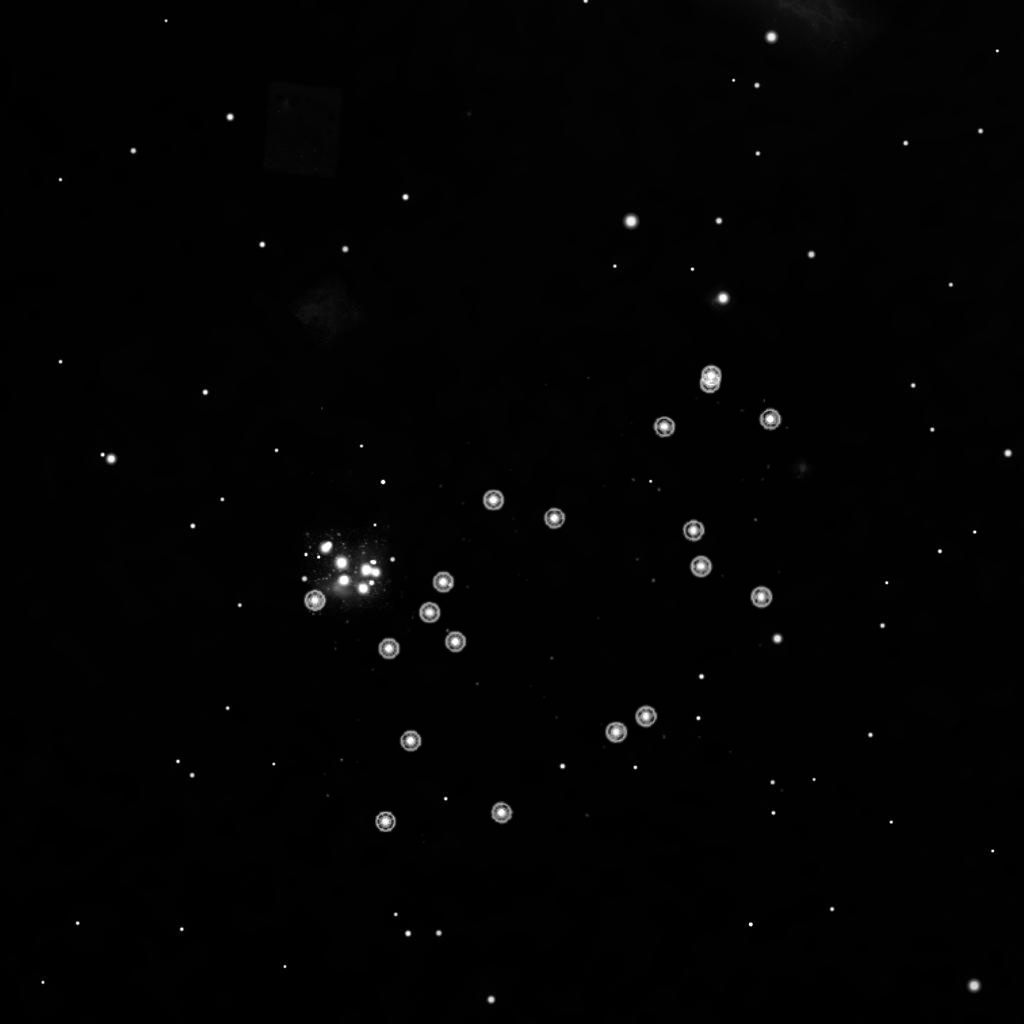canis_major: (369, 481, 571, 672)
